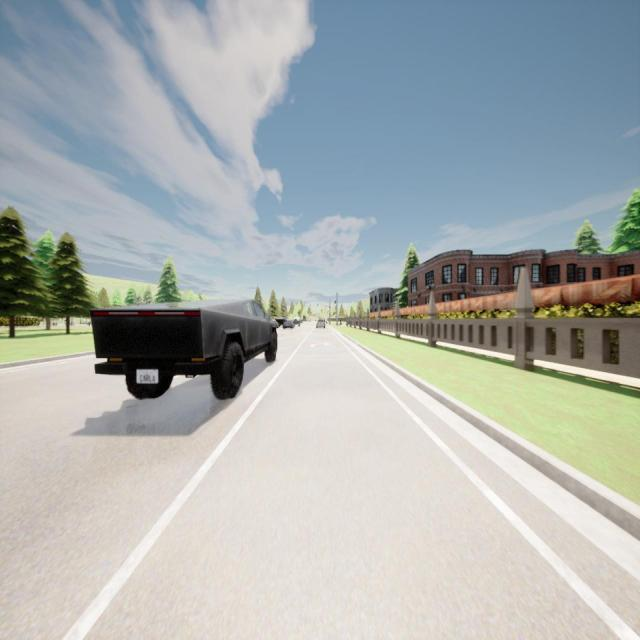Vehicle: (91, 300, 278, 399), (282, 319, 294, 331), (314, 318, 326, 330), (274, 315, 286, 326), (292, 317, 301, 325)
